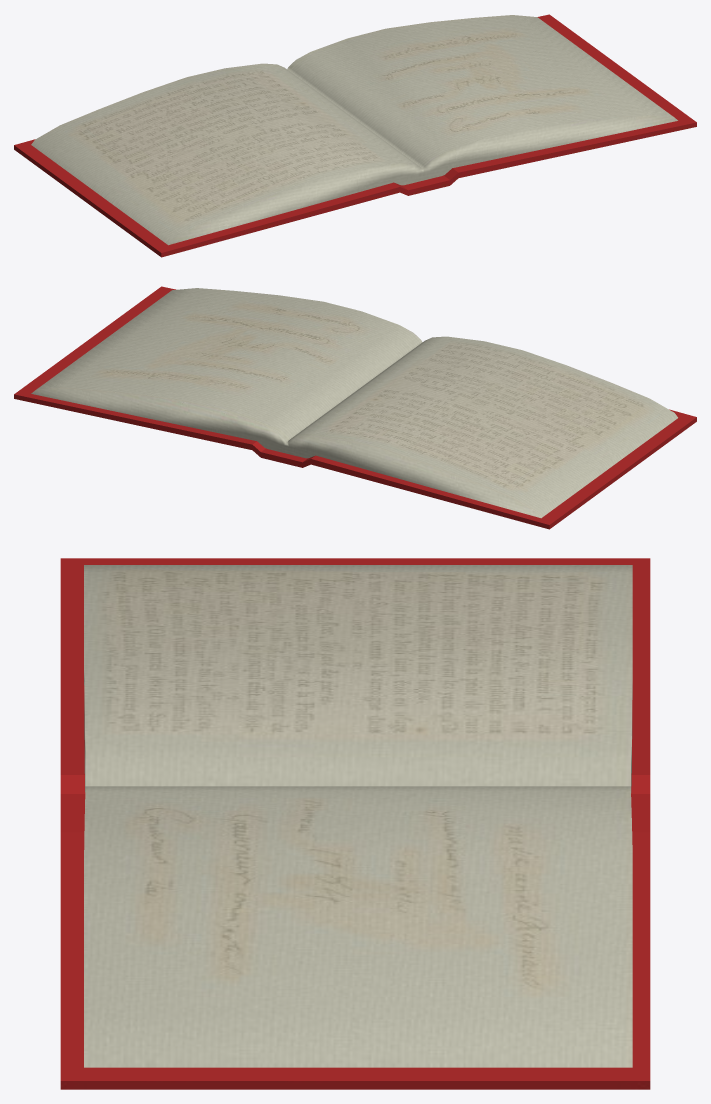
Rendered from open book.fbx.
3 views of the same model, one above another, from view 1: azimuth 30°, elevation 25°; view 2: azimuth 150°, elevation 25°; view 3: azimuth 270°, elevation 25° (orthographic). The views are drawn at different scales.
Visible parts, largest first — view 1: open_book; view 2: open_book; view 3: open_book.
Boxes of the visible parts, x1,y1,x2,y2 form: open_book: [14, 14, 696, 257]; open_book: [14, 286, 696, 529]; open_book: [60, 558, 650, 1089].
Size of the model in its own units: 46.38 by 2.88 by 22.12.
1 material, 1 textured.
